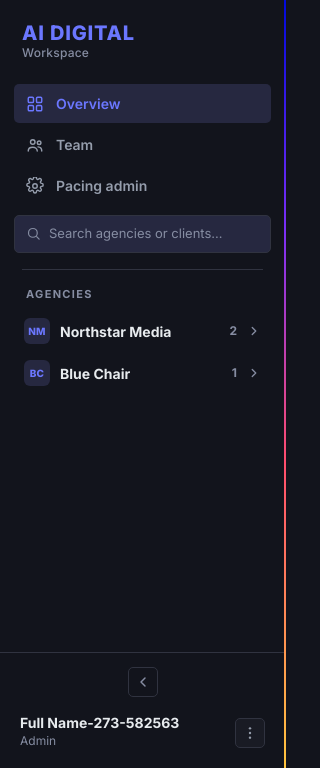
it: Sidebar › search › should surface matching clients even when the parent agency's name does not match
This screenshot has width=320, height=768.
Expected: the text "Northstar Media" is shown, x1=60 y1=322 x2=171 y2=340
Expected: the text "Ourisman Ford" is not shown
Step 1. Type "ford" into the search field labelled "Search agencies or clients" → (154, 234), box x1=49 y1=224 x2=259 y2=244
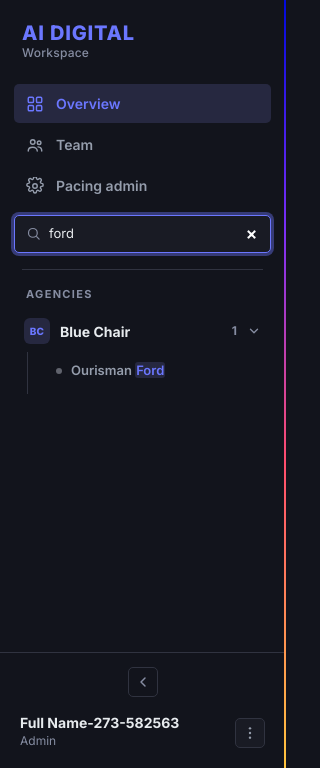
Expected: the text "Blue Chair" is shown, x1=60 y1=322 x2=130 y2=340
Expected: the link "Northstar Media" is gone
